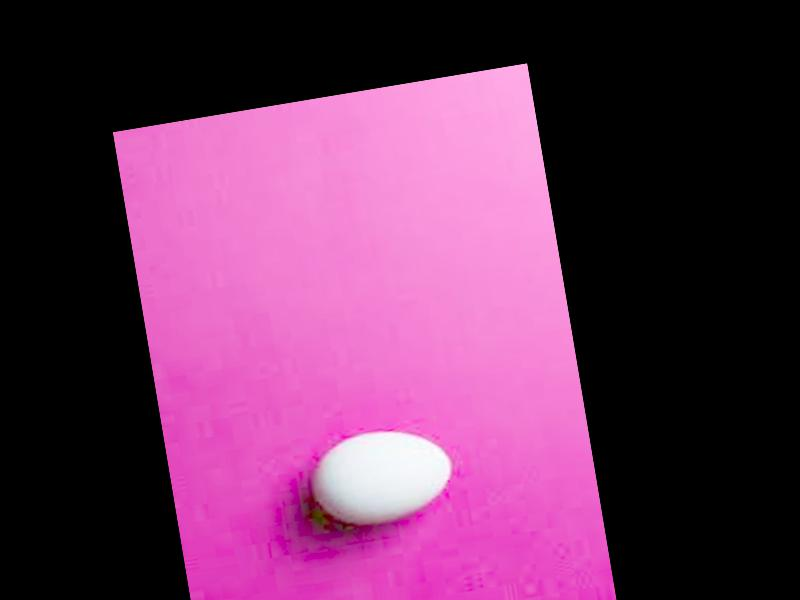Eggs: (306, 420, 458, 531)
